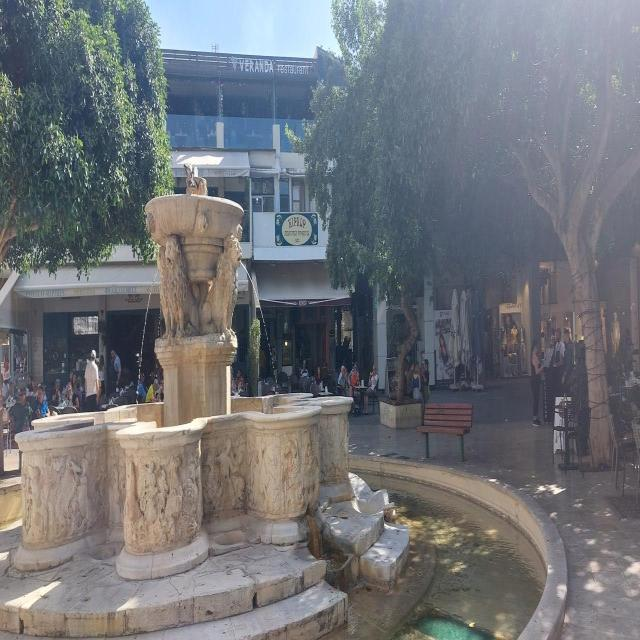Liontaria: (18, 183, 354, 581)
